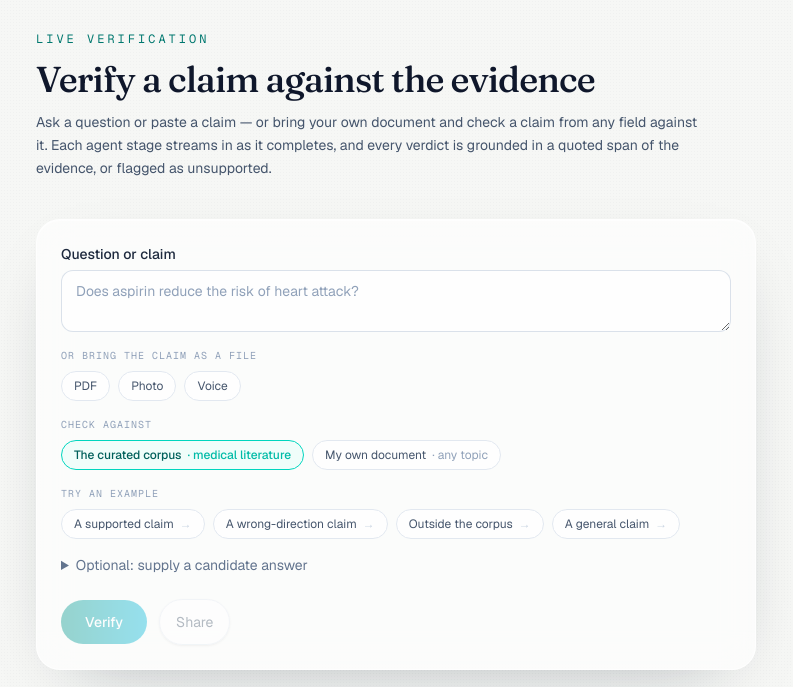
it: fills both fields and runs when an own-document example chip is clicked
Step 1. Click the radio button labelled "My own document · any topic" → coordinates (407, 455), box [312,440,501,470]
(page scrolled)
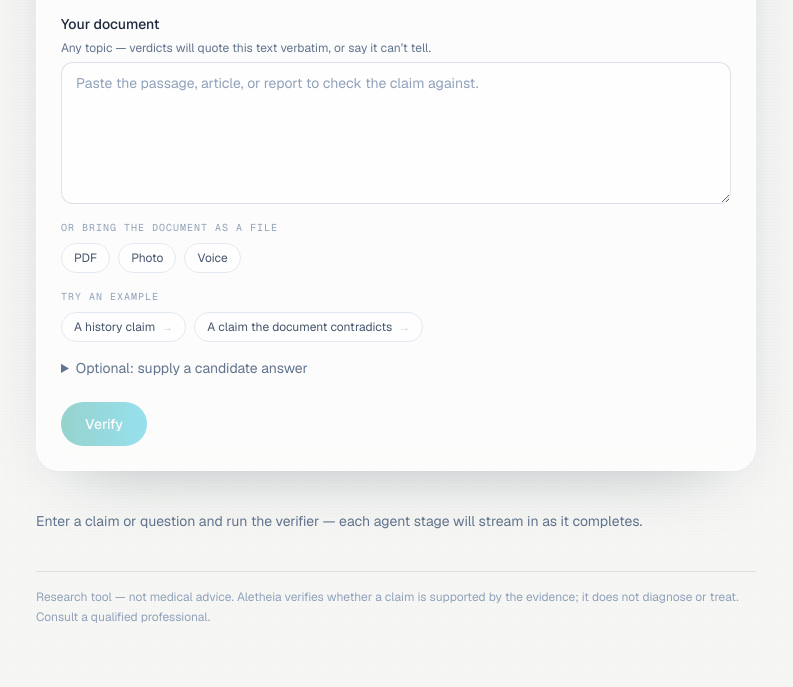
Step 2. Click the button "A history claim →" → coordinates (124, 327), box [61,312,186,342]
(page scrolled)
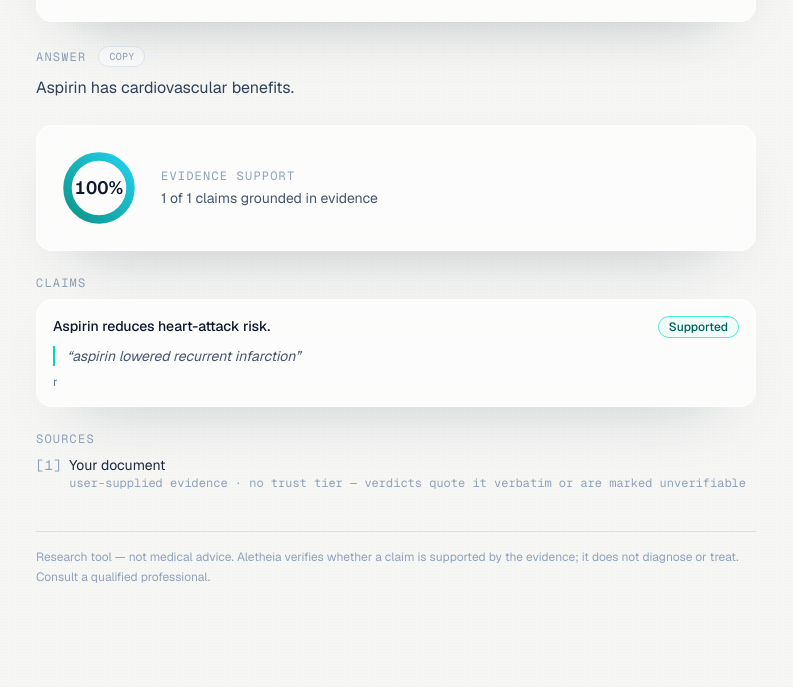
Expected: the text "Supported" is shown, [658,316,739,338]
